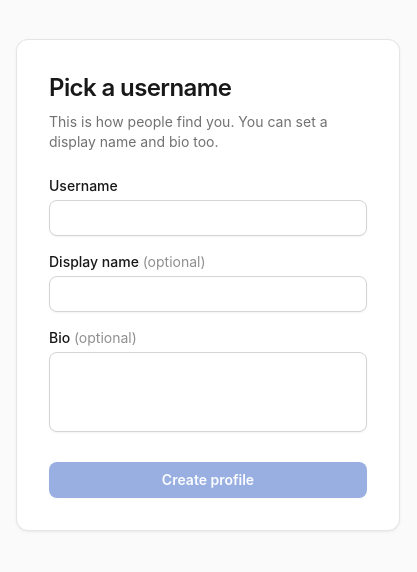
Test: shows an inline shape hint and blocks submit while the username is malformed
Type "Ada Lovelace!" into the field labelled "Username" at (208, 218), box top-left (49, 200), bottom-right (367, 236)
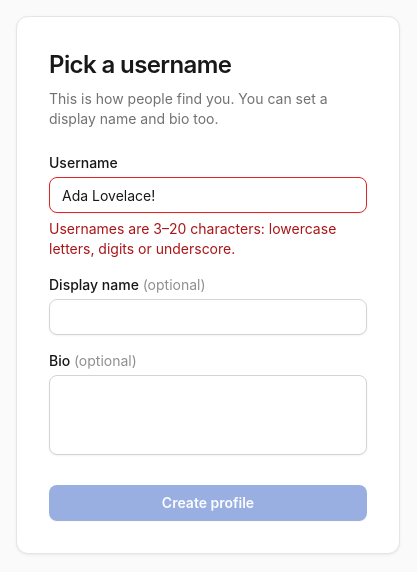
Expected: the button "Create profile" is disabled, top-left (49, 485), bottom-right (367, 521)
Now the message shows "lowercase letters, digits or underscore", box top-left (49, 220), bottom-right (336, 257)
